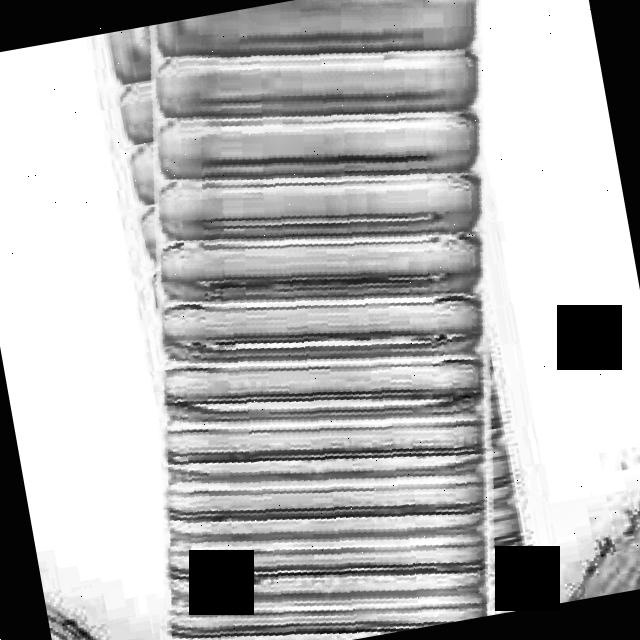bottle: (149, 0, 486, 640)
